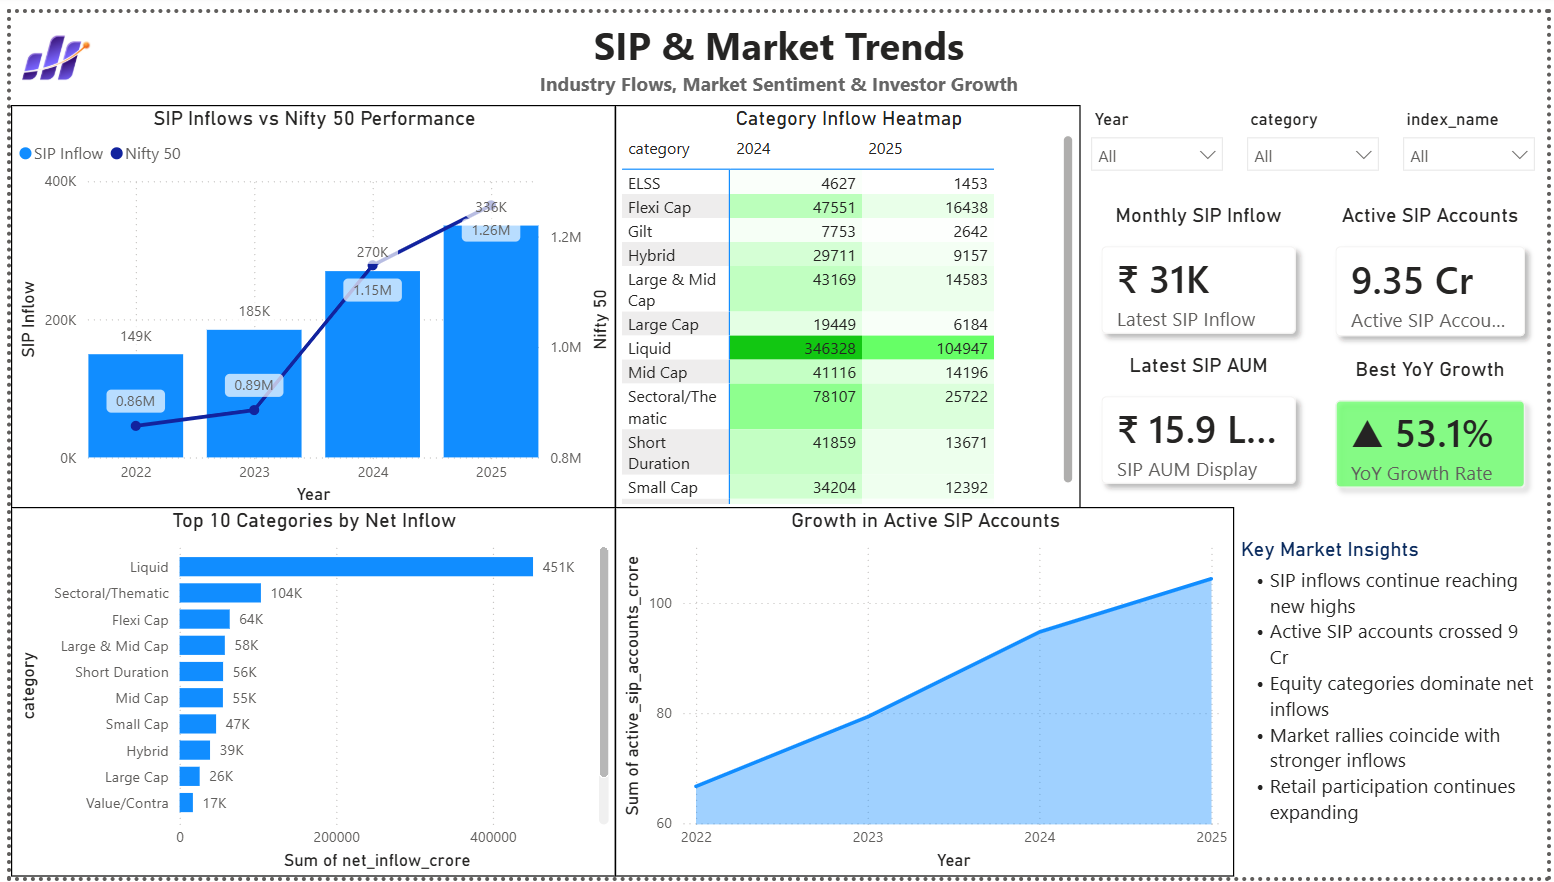

What the dashboard file says about the page in this screenshot:
{"tool":"powerbi","page":{"name":"SIP & Market Trends","canvas":[1280,720],"ordinal":3},"visuals":[{"type":"textbox","box":[388.3,0,503.3,75],"z":0},{"type":"slicer","fields":{"Values":["04_monthly_sip_inflows.month.Variation.Date Hierarchy.Year"]},"box":[890,75,130,63.3],"z":0,"group":"g1"},{"type":"group","id":"g1","title":"Group 1","box":[890,75,390,63.3],"z":1000},{"type":"slicer","fields":{"Values":["05_category_inflows.category"]},"box":[1020,75,130,63.3],"z":1000,"group":"g1"},{"type":"slicer","fields":{"Values":["10_benchmark_indices.index_name"]},"box":[1150,75,130,63.3],"z":2000,"group":"g1"},{"type":"lineClusteredColumnComboChart","title":"SIP Inflows vs Nifty 50 Performance","fields":{"Category":["04_monthly_sip_inflows.month.Variation.Date Hierarchy.Year","04_monthly_sip_inflows.month.Variation.Date Hierarchy.Quarter","04_monthly_sip_inflows.month.Variation.Date Hierarchy.Month","04_monthly_sip_inflows.month.Variation.Date Hierarchy.Day"],"Y":["Sum(04_monthly_sip_inflows.sip_inflow_crore)"],"Y2":["Sum(10_benchmark_indices.close_value)"]},"box":[0,76,504,338],"z":2000},{"type":"pivotTable","title":"Category Inflow Heatmap","fields":{"Rows":["05_category_inflows.category"],"Columns":["05_category_inflows.month.Variation.Date Hierarchy.Year","05_category_inflows.month.Variation.Date Hierarchy.Quarter","05_category_inflows.month.Variation.Date Hierarchy.Month","05_category_inflows.month.Variation.Date Hierarchy.Day"],"Values":["Sum(05_category_inflows.net_inflow_crore)"]},"box":[504,76,388,338],"z":3000},{"type":"barChart","title":"Top 10 Categories by Net Inflow","fields":{"Category":["05_category_inflows.category"],"Y":["Sum(05_category_inflows.net_inflow_crore)"]},"box":[0,412,504,308],"z":4000},{"type":"cardVisual","title":"Monthly SIP Inflow","fields":{"Data":["04_monthly_sip_inflows.Latest SIP Inflow"]},"box":[892,158,196,126],"z":5000},{"type":"cardVisual","title":"Active SIP Accounts","fields":{"Data":["04_monthly_sip_inflows.Active SIP Accounts"]},"box":[1086,158,192,128],"z":6000},{"type":"cardVisual","title":"Latest SIP AUM","fields":{"Data":["04_monthly_sip_inflows.Latest SIP AUM"]},"box":[892,284,196,126],"z":7000},{"type":"cardVisual","title":"Best YoY Growth","fields":{"Data":["04_monthly_sip_inflows.Latest Growth"]},"box":[1086,286,192,126],"z":8000},{"type":"areaChart","title":"Growth in Active SIP Accounts","fields":{"Category":["04_monthly_sip_inflows.month.Variation.Date Hierarchy.Year","04_monthly_sip_inflows.month.Variation.Date Hierarchy.Quarter","04_monthly_sip_inflows.month.Variation.Date Hierarchy.Month","04_monthly_sip_inflows.month.Variation.Date Hierarchy.Day"],"Y":["Sum(04_monthly_sip_inflows.active_sip_accounts_crore)"]},"box":[504,412,516,308],"z":9000},{"type":"textbox","title":"Key Market Insights","box":[1020,436,258,258],"z":10000},{"type":"image","box":[0,0,74.6,75],"z":11000}]}

Visuals, with their boxes in screenshot pixels (x1, y1, x2, y2), scaled from the page's 1280x720 canvas onto the 1554x882 screenshot:
textbox: <box>471,0,1082,92</box>
slicer - 04_monthly_sip_inflows.month.Variation.Date Hierarchy.Year: <box>1081,92,1238,169</box>
"Group 1" group: <box>1081,92,1553,169</box>
slicer - 05_category_inflows.category: <box>1238,92,1396,169</box>
slicer - 10_benchmark_indices.index_name: <box>1396,92,1553,169</box>
"SIP Inflows vs Nifty 50 Performance" lineClusteredColumnComboChart: <box>0,93,612,507</box>
"Category Inflow Heatmap" pivotTable: <box>612,93,1083,507</box>
"Top 10 Categories by Net Inflow" barChart: <box>0,505,612,881</box>
"Monthly SIP Inflow" cardVisual: <box>1083,194,1321,348</box>
"Active SIP Accounts" cardVisual: <box>1318,194,1552,350</box>
"Latest SIP AUM" cardVisual: <box>1083,348,1321,502</box>
"Best YoY Growth" cardVisual: <box>1318,350,1552,505</box>
"Growth in Active SIP Accounts" areaChart: <box>612,505,1238,881</box>
"Key Market Insights" textbox: <box>1238,534,1552,850</box>
image: <box>0,0,91,92</box>
